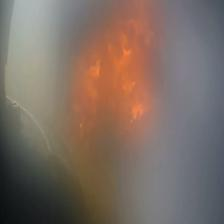fire: (75, 5, 164, 147)
